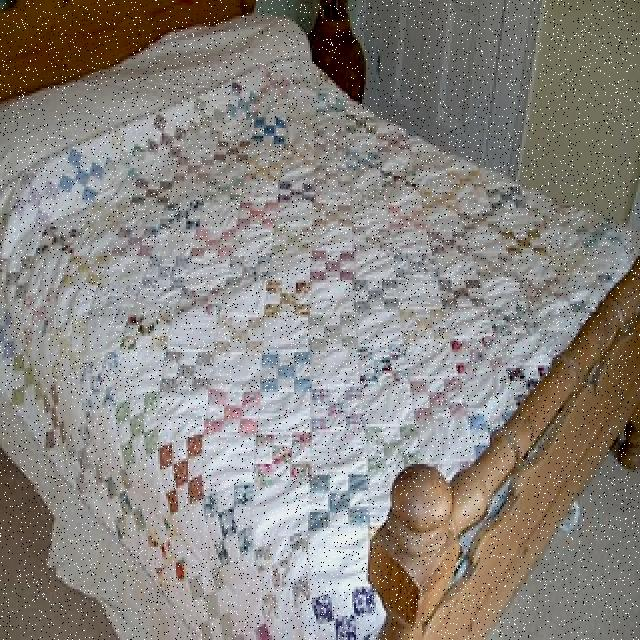bed: (0, 11, 632, 632)
